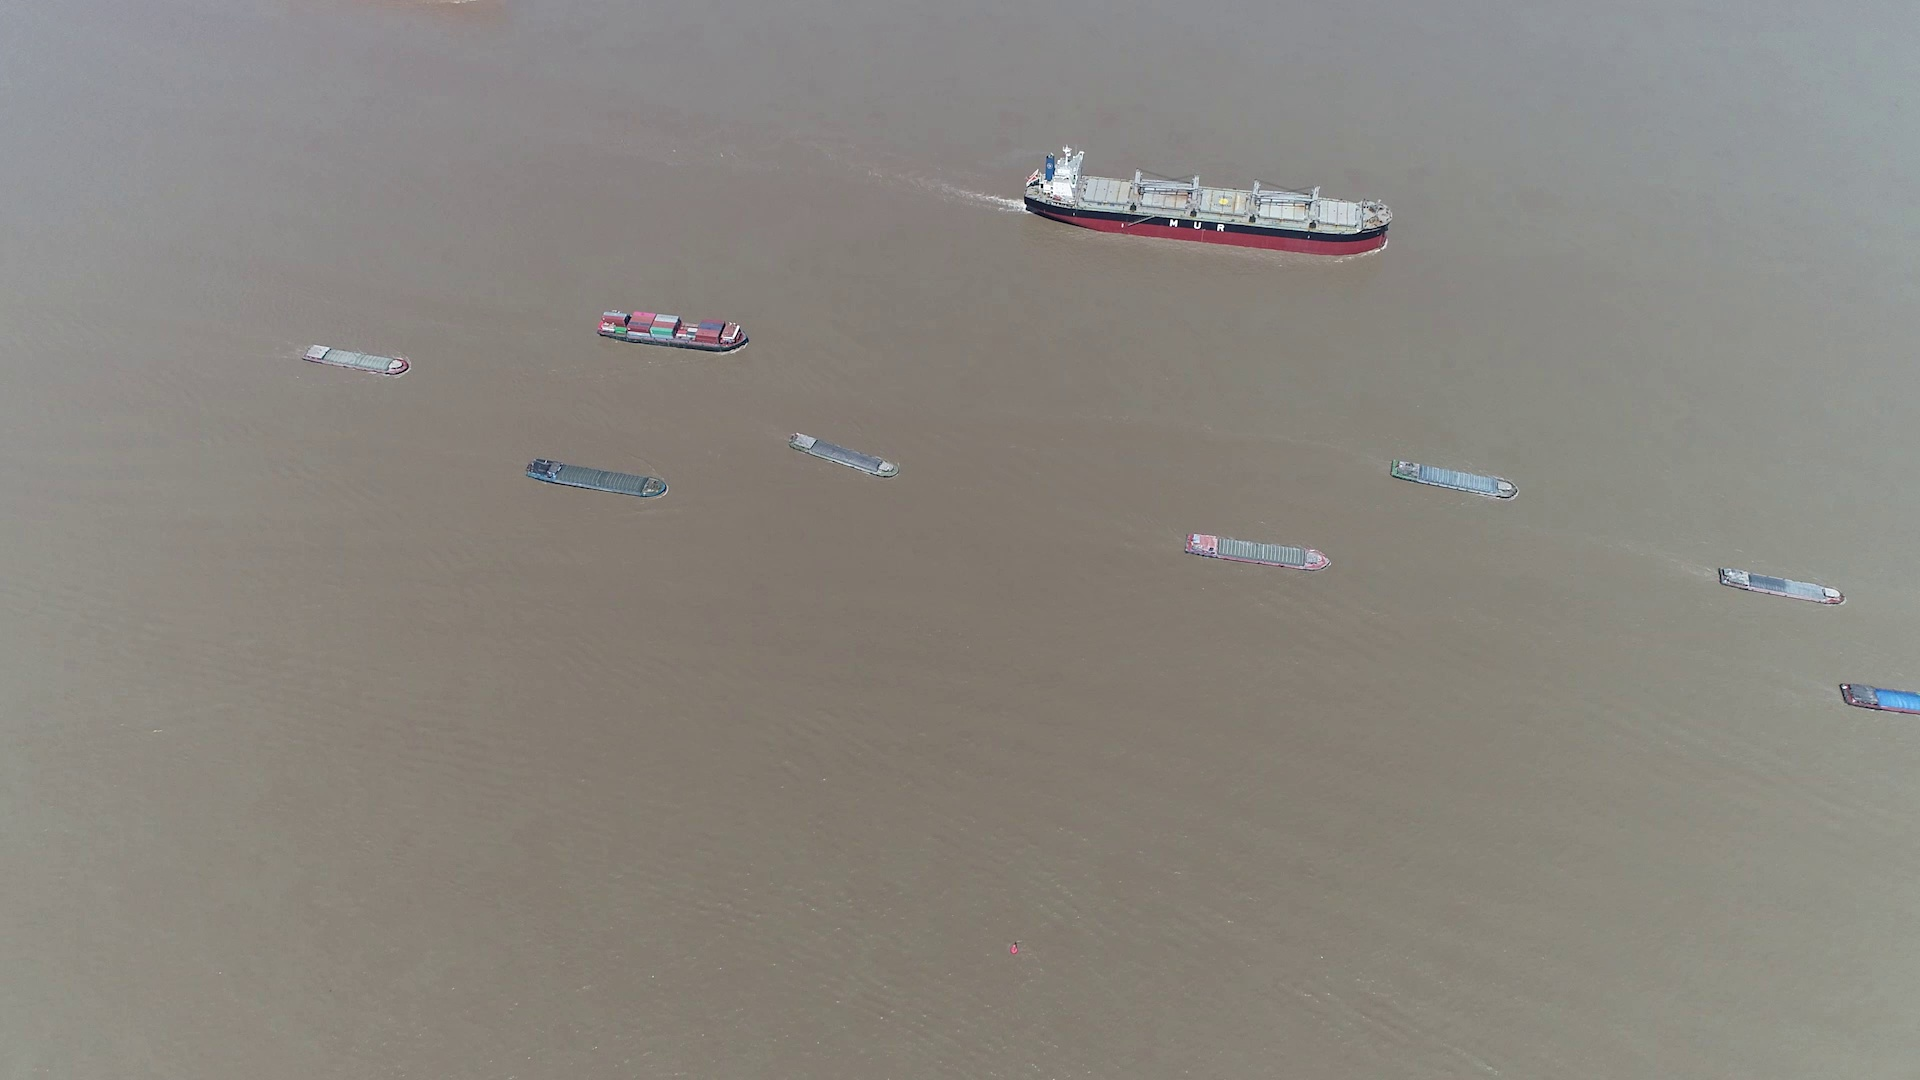ship: (1026, 150, 1390, 251), (595, 309, 750, 352), (527, 458, 670, 498), (1187, 531, 1331, 571), (787, 431, 901, 480), (1390, 458, 1518, 500), (1716, 567, 1845, 607), (302, 343, 409, 375), (1840, 680, 1920, 717)
